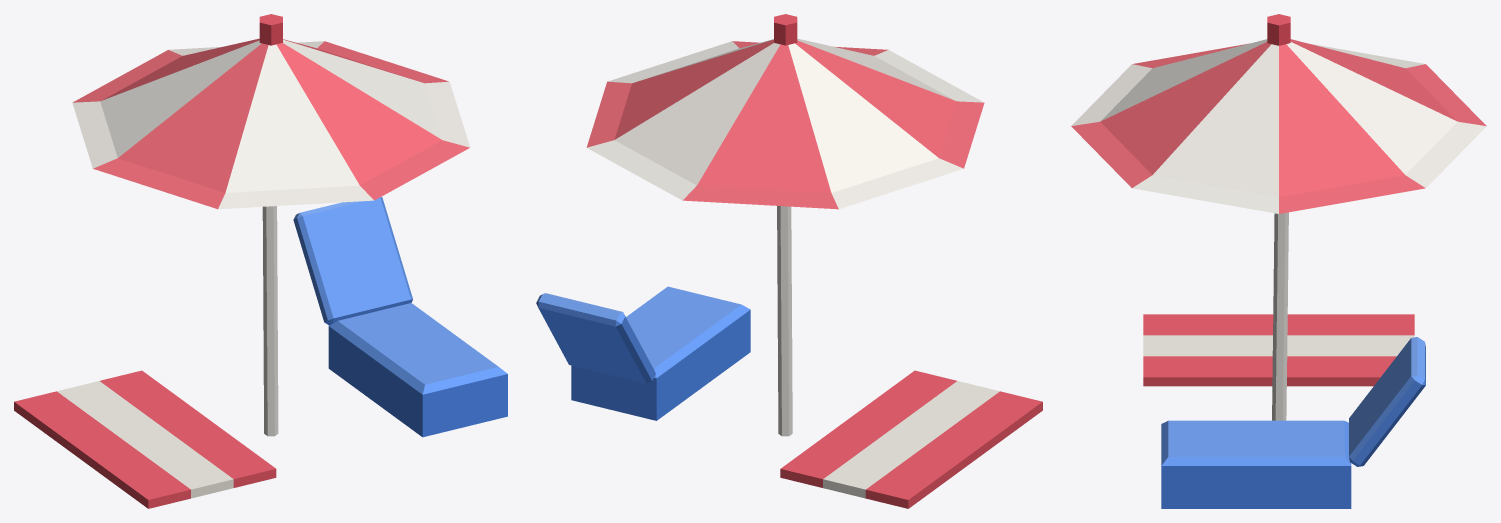
The model's file is BeachUmbrella_0.glb.
3 renders of one model, left to right at view 1: azimuth 30°, elevation 25°; view 2: azimuth 150°, elevation 25°; view 3: azimuth 270°, elevation 25°, orthographic.
Parts seen in each view (by area): view 1: BeachUmbrella_0; view 2: BeachUmbrella_0; view 3: BeachUmbrella_0.
Part boxes in pixels (x1,y1,x2,y2): BeachUmbrella_0: [14, 14, 507, 508]; BeachUmbrella_0: [536, 14, 1042, 508]; BeachUmbrella_0: [1071, 14, 1486, 508].
Bounding box in the file's own units: 9.5 × 10.2 × 9.2.
1 material, 1 textured.
